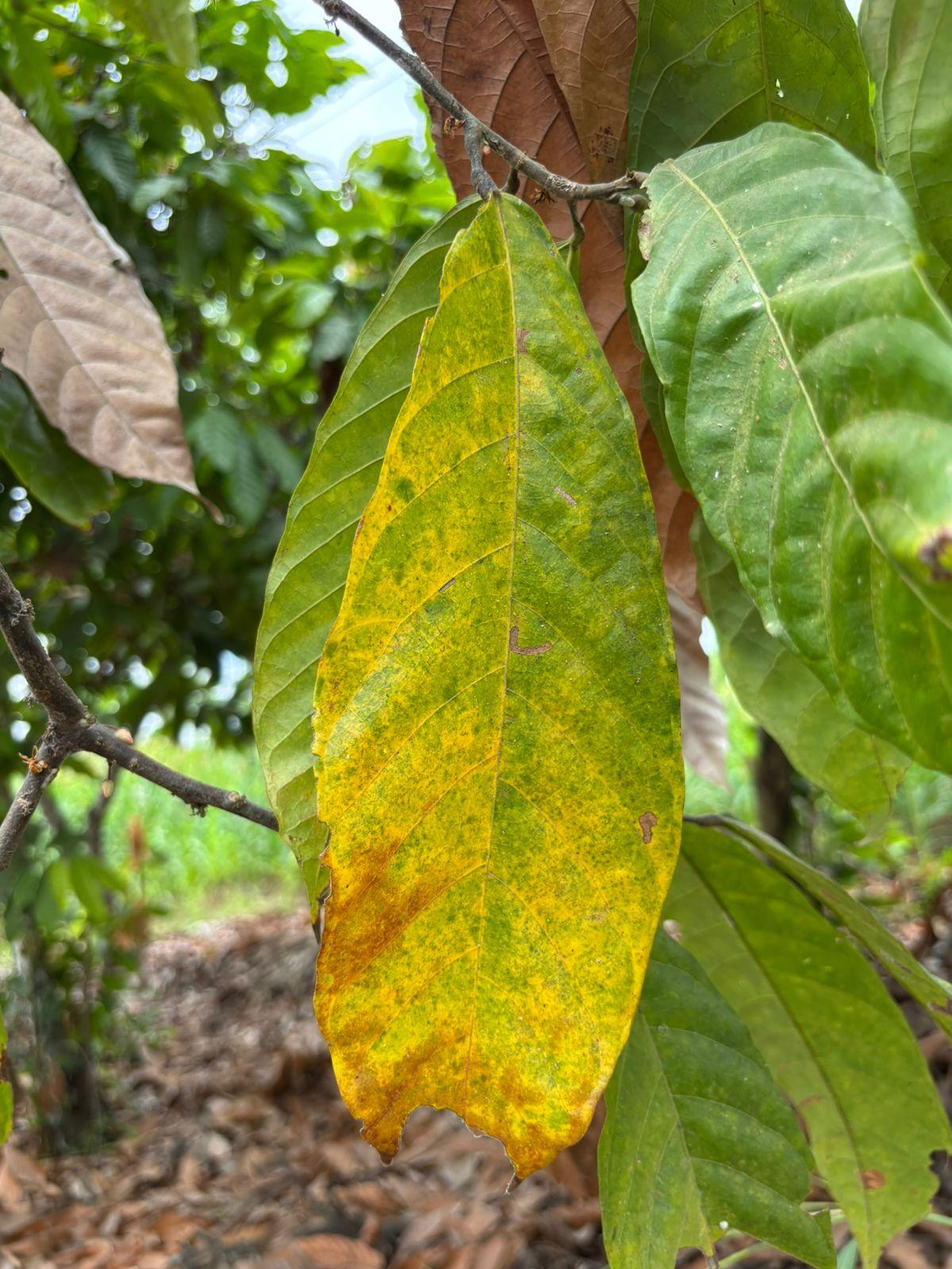Fosforo: (313, 194, 682, 1175)
